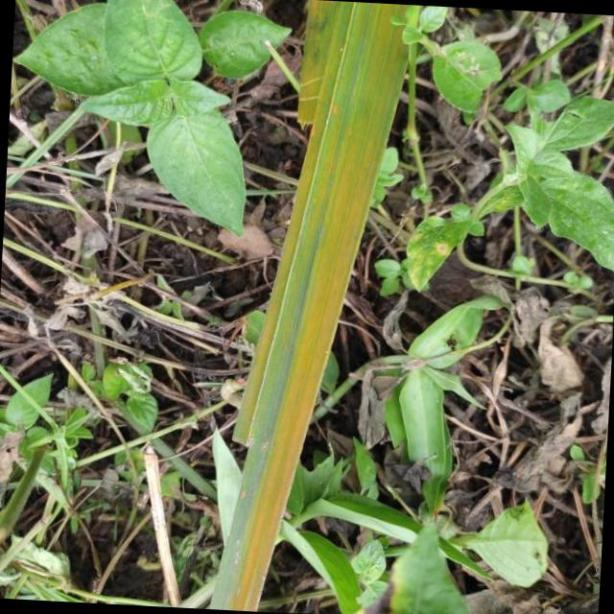Megnesium: (200, 1, 419, 614)
